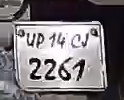1: (72, 58, 87, 82), (49, 33, 56, 50)
2: (24, 56, 43, 82), (43, 56, 58, 83)
4: (57, 32, 66, 51)
6: (57, 56, 73, 82)
C: (70, 31, 81, 54)
J: (82, 31, 89, 50)
P: (35, 32, 45, 50)
U: (25, 31, 35, 49)
